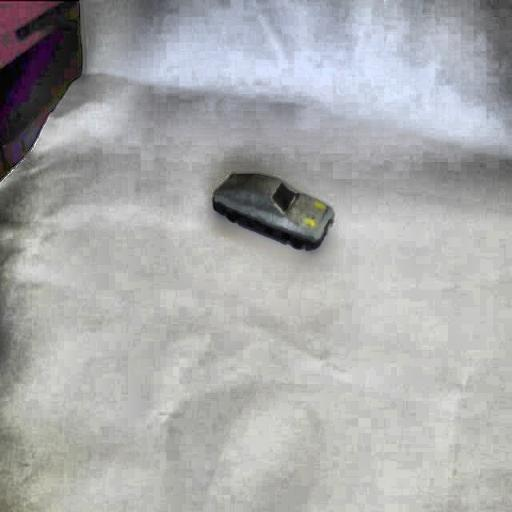normal_car: (210, 167, 335, 254)
